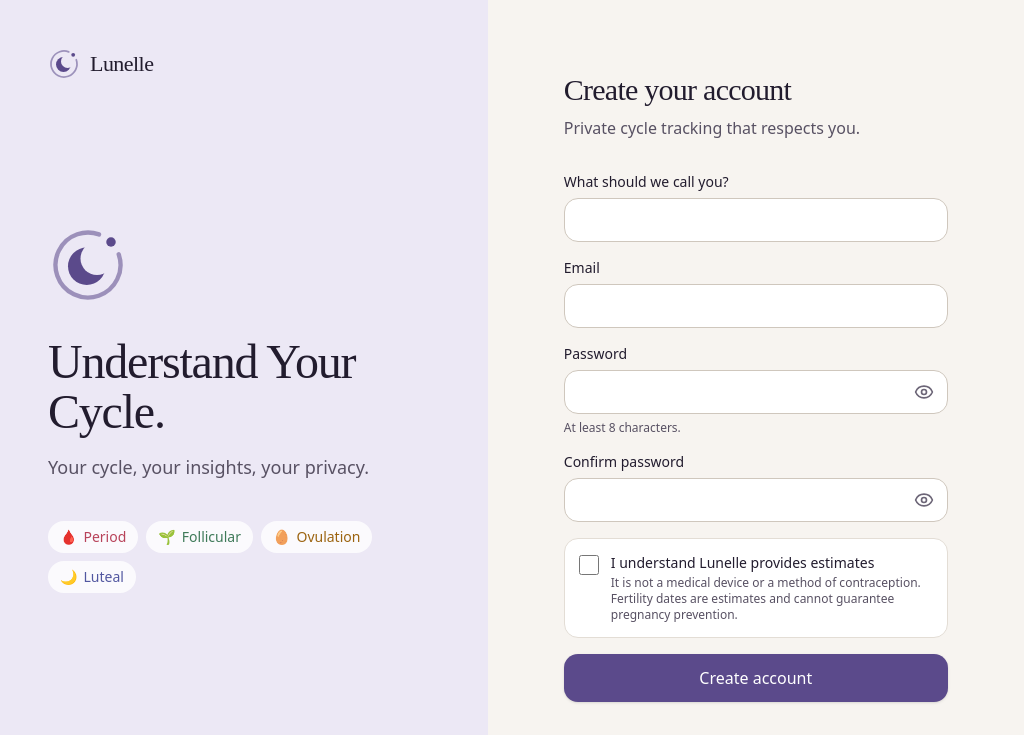
Scenario: sign up › creates the account and asks the user to verify their email
The width and height of the screenshot is (1024, 735).
In the field labelled "What should we call you?": point(756, 220) [564,198,948,242], type "  Sam "
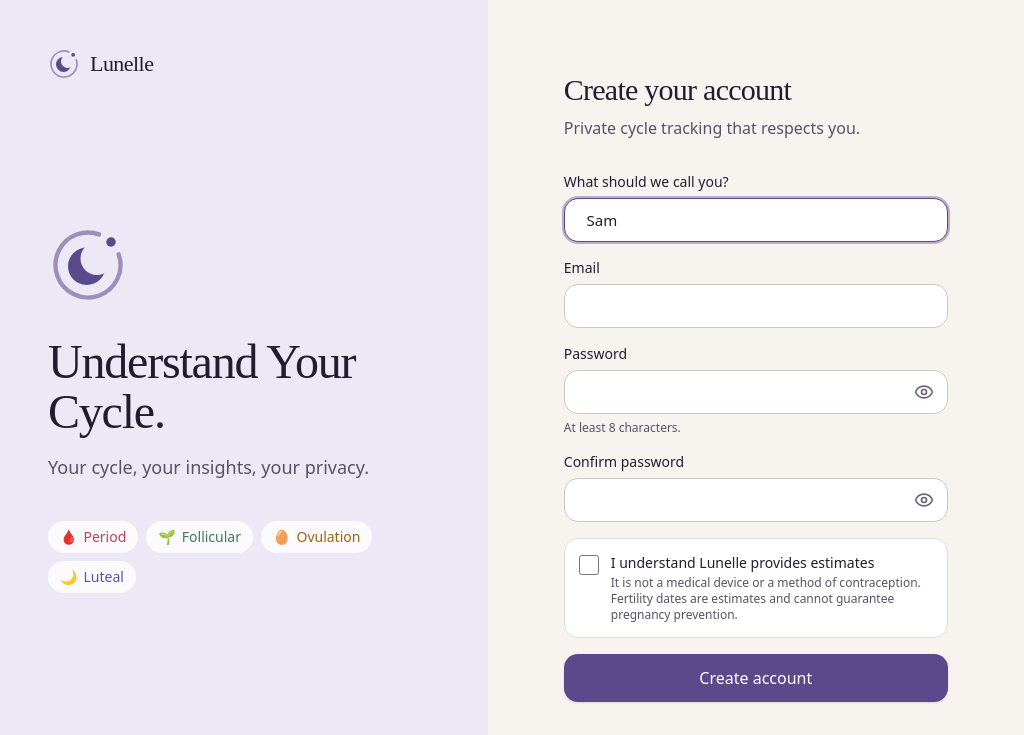
In the field labelled "Email": point(756, 306) [564,284,948,328], type "sam@example.com"
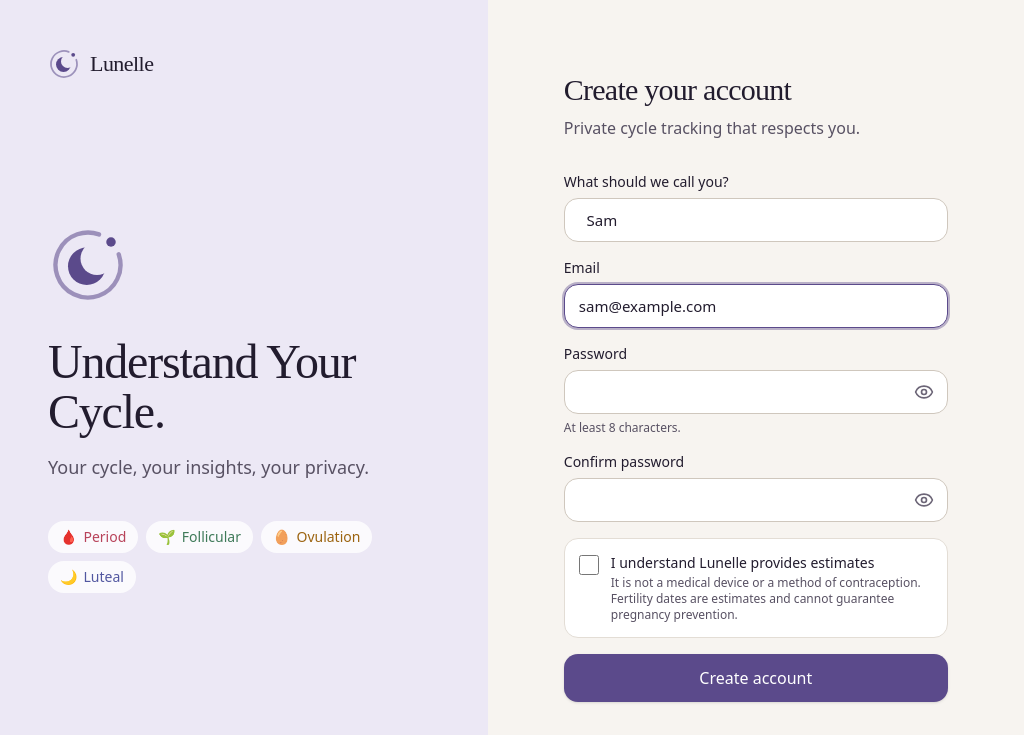
In the password field labelled "Password": point(756, 392) [564,370,948,414], type "longenough1"
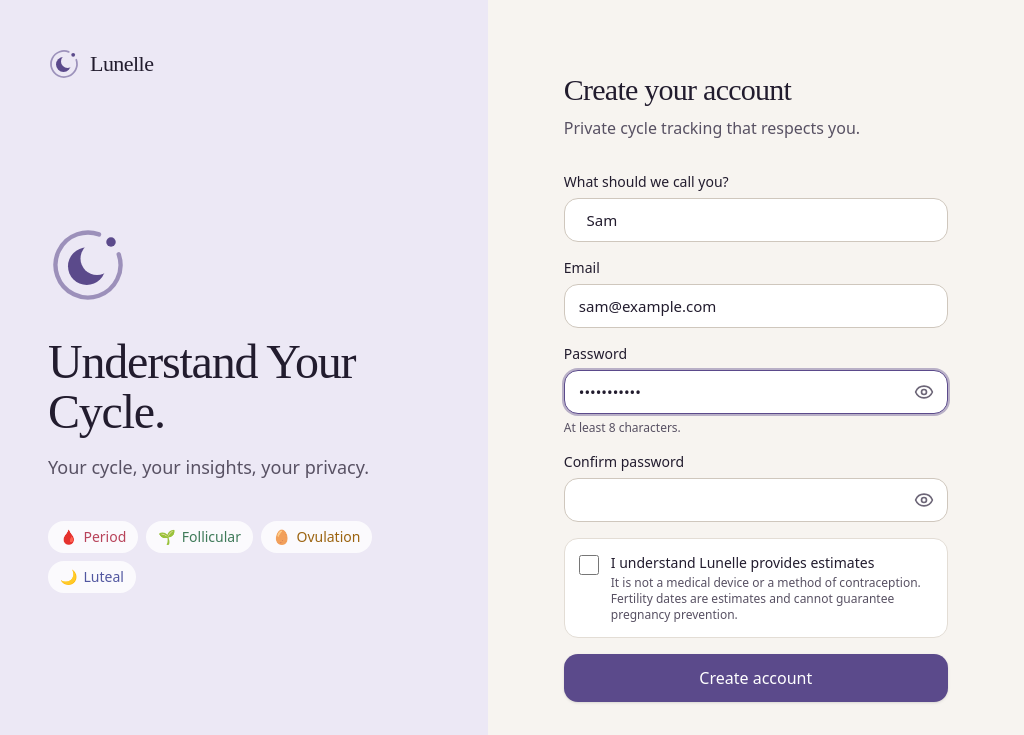
In the password field labelled "Confirm password": point(756, 500) [564,478,948,522], type "longenough1"
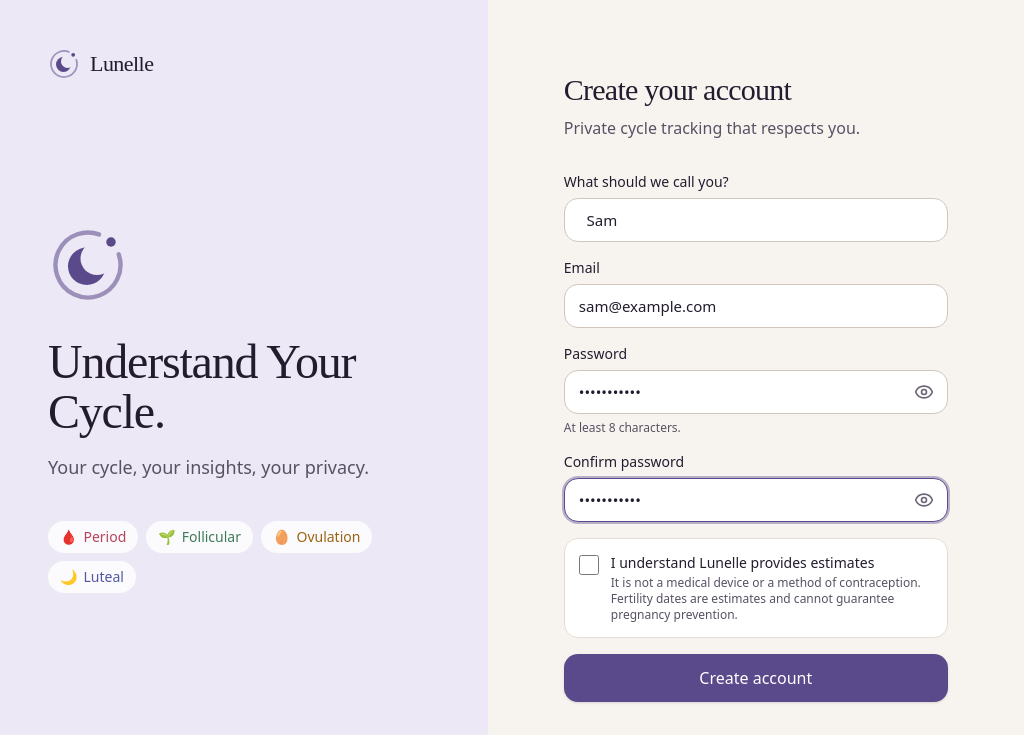
Click the checkbox labelled "I understand Lunelle provides estimates": point(589, 565) [579,555,599,575]
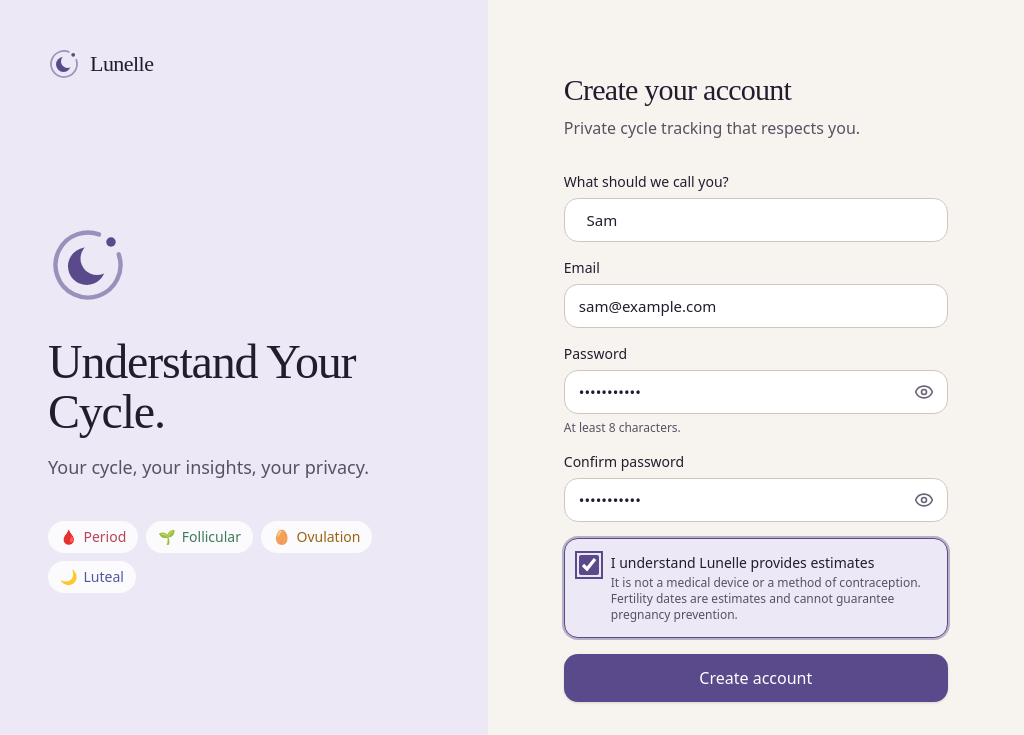
Click the button "Create account": point(756, 678) [564,654,948,702]
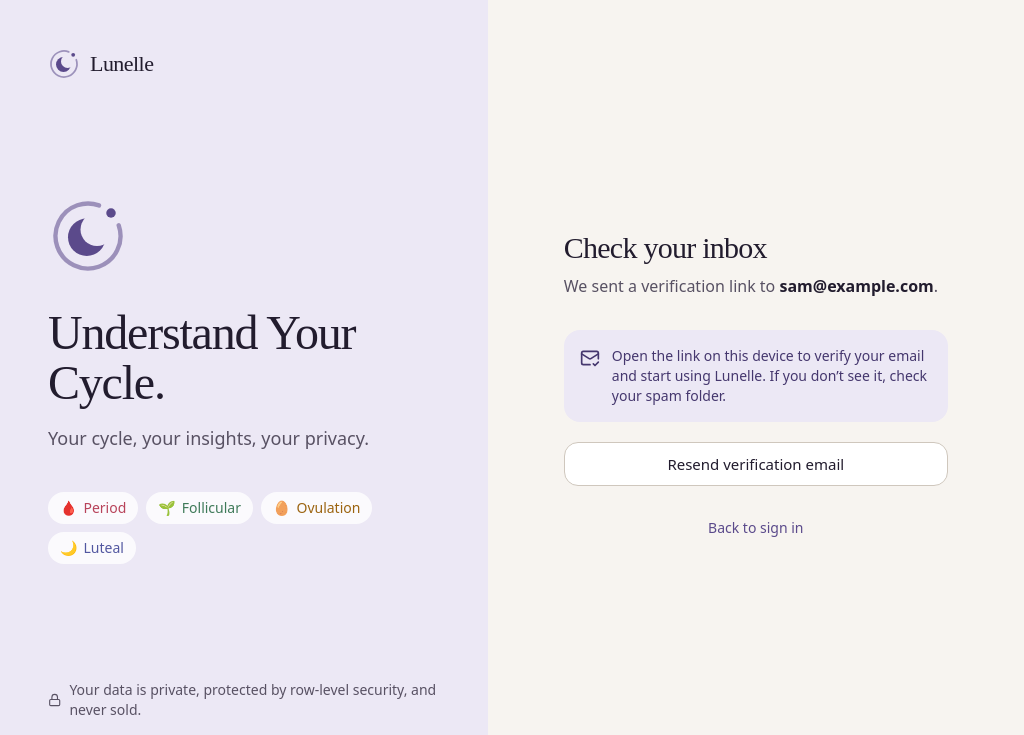
Now the heading "Check your inbox" is shown, box [564,231,767,264]
